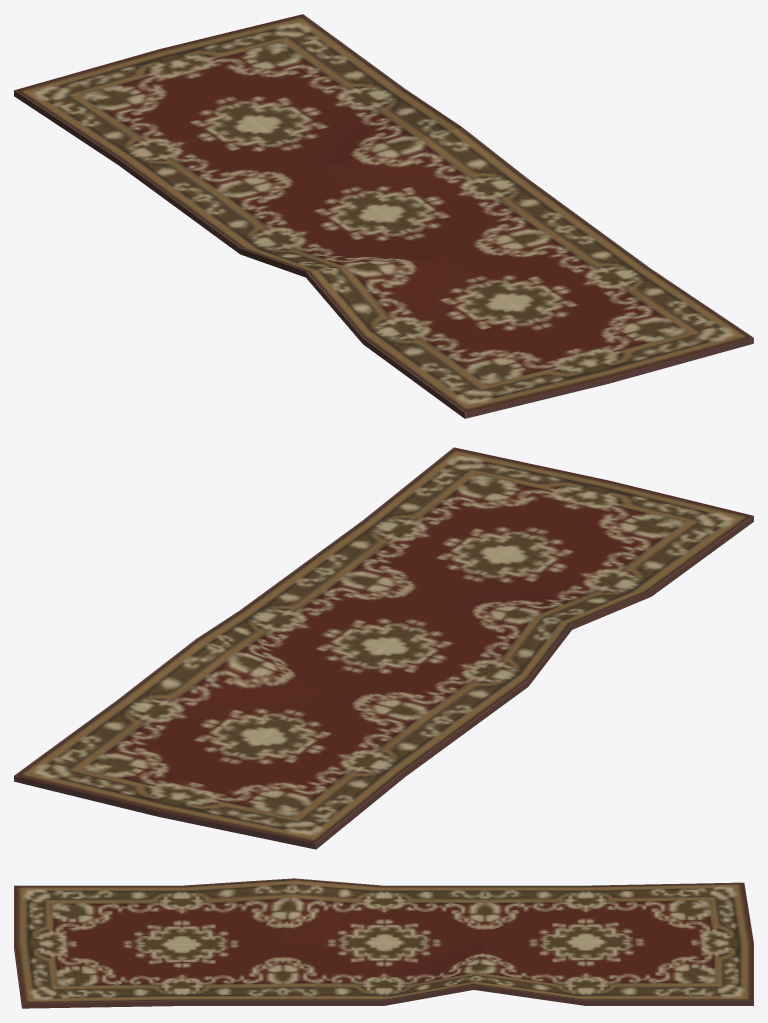
The model's file is SM_Prop_Rug_19.fbx.
3 views of the same model, one above another, from view 1: azimuth 30°, elevation 25°; view 2: azimuth 150°, elevation 25°; view 3: azimuth 270°, elevation 25° (orthographic). The views are drawn at different scales.
Visible parts, largest first — view 1: SM_Prop_Rug_19; view 2: SM_Prop_Rug_19; view 3: SM_Prop_Rug_19.
Boxes of the visible parts, x1=… form: SM_Prop_Rug_19: x1=14, y1=14, x2=753, y2=418; SM_Prop_Rug_19: x1=14, y1=447, x2=753, y2=849; SM_Prop_Rug_19: x1=14, y1=878, x2=753, y2=1008.
Bounding box in the file's own units: 218 × 13.87 × 564.
